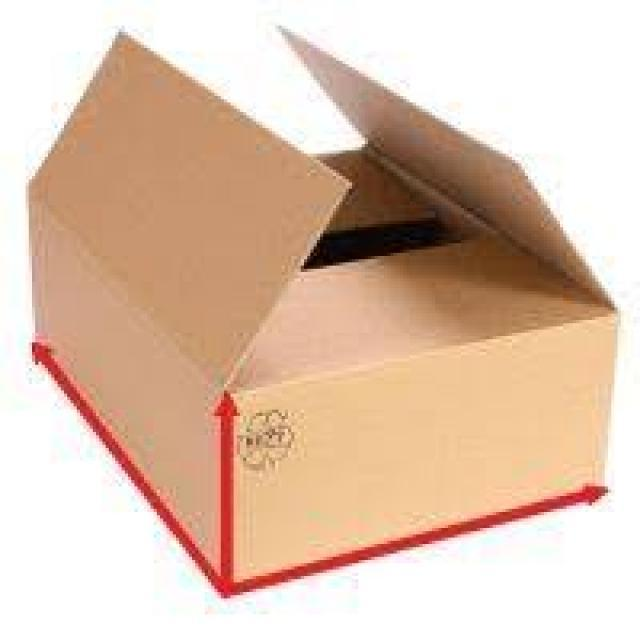Cardboard: (27, 24, 624, 595)
